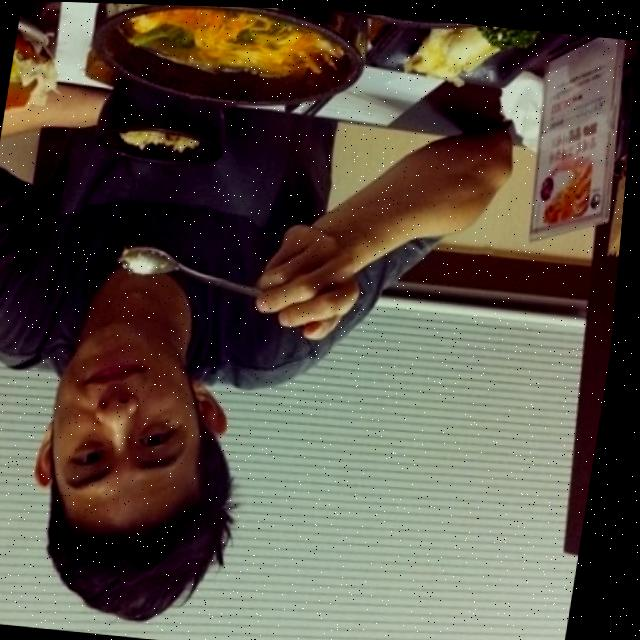eating-person: (0, 39, 531, 640)
